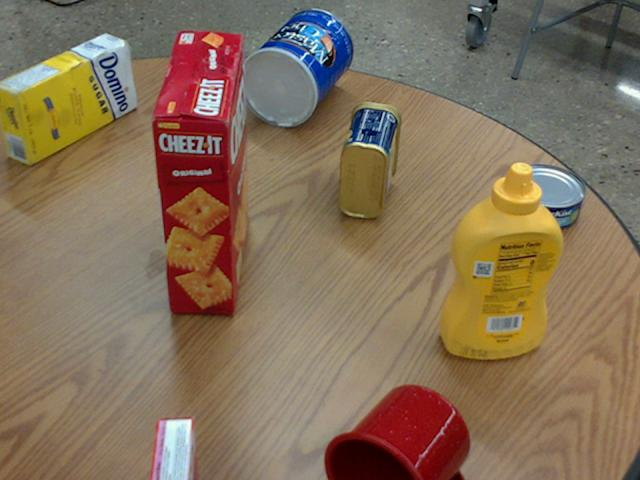cracker_box: (153, 31, 248, 313)
gelatin_box: (145, 418, 194, 479)
master_chef_can: (238, 8, 352, 125)
mug: (321, 385, 468, 479)
mustard_bottle: (438, 162, 562, 358)
potted_meat_can: (338, 101, 400, 217)
sugar_box: (0, 32, 135, 163)
tuna_fish_can: (504, 163, 583, 230)
